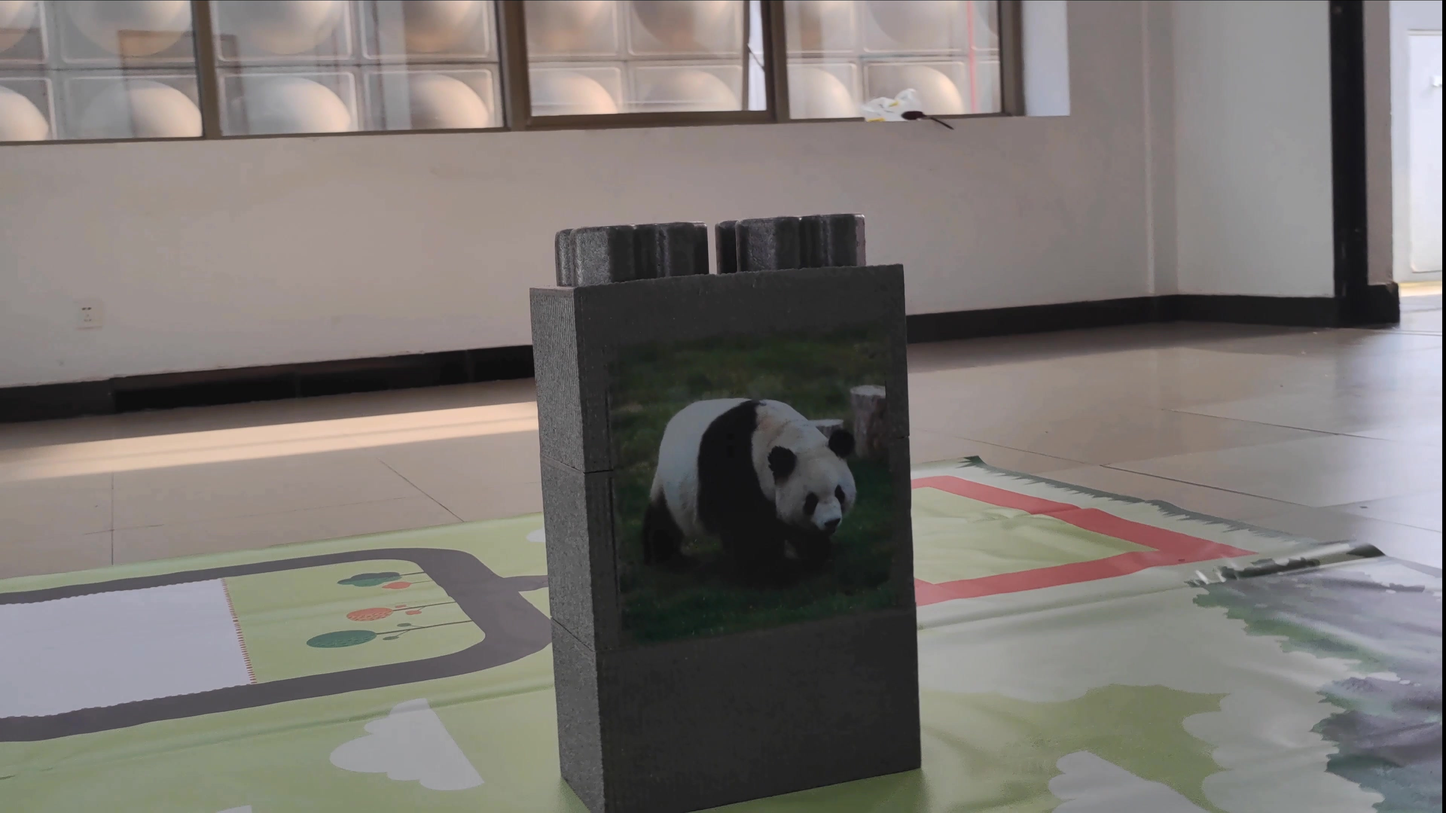panda: (619, 368, 889, 577)
